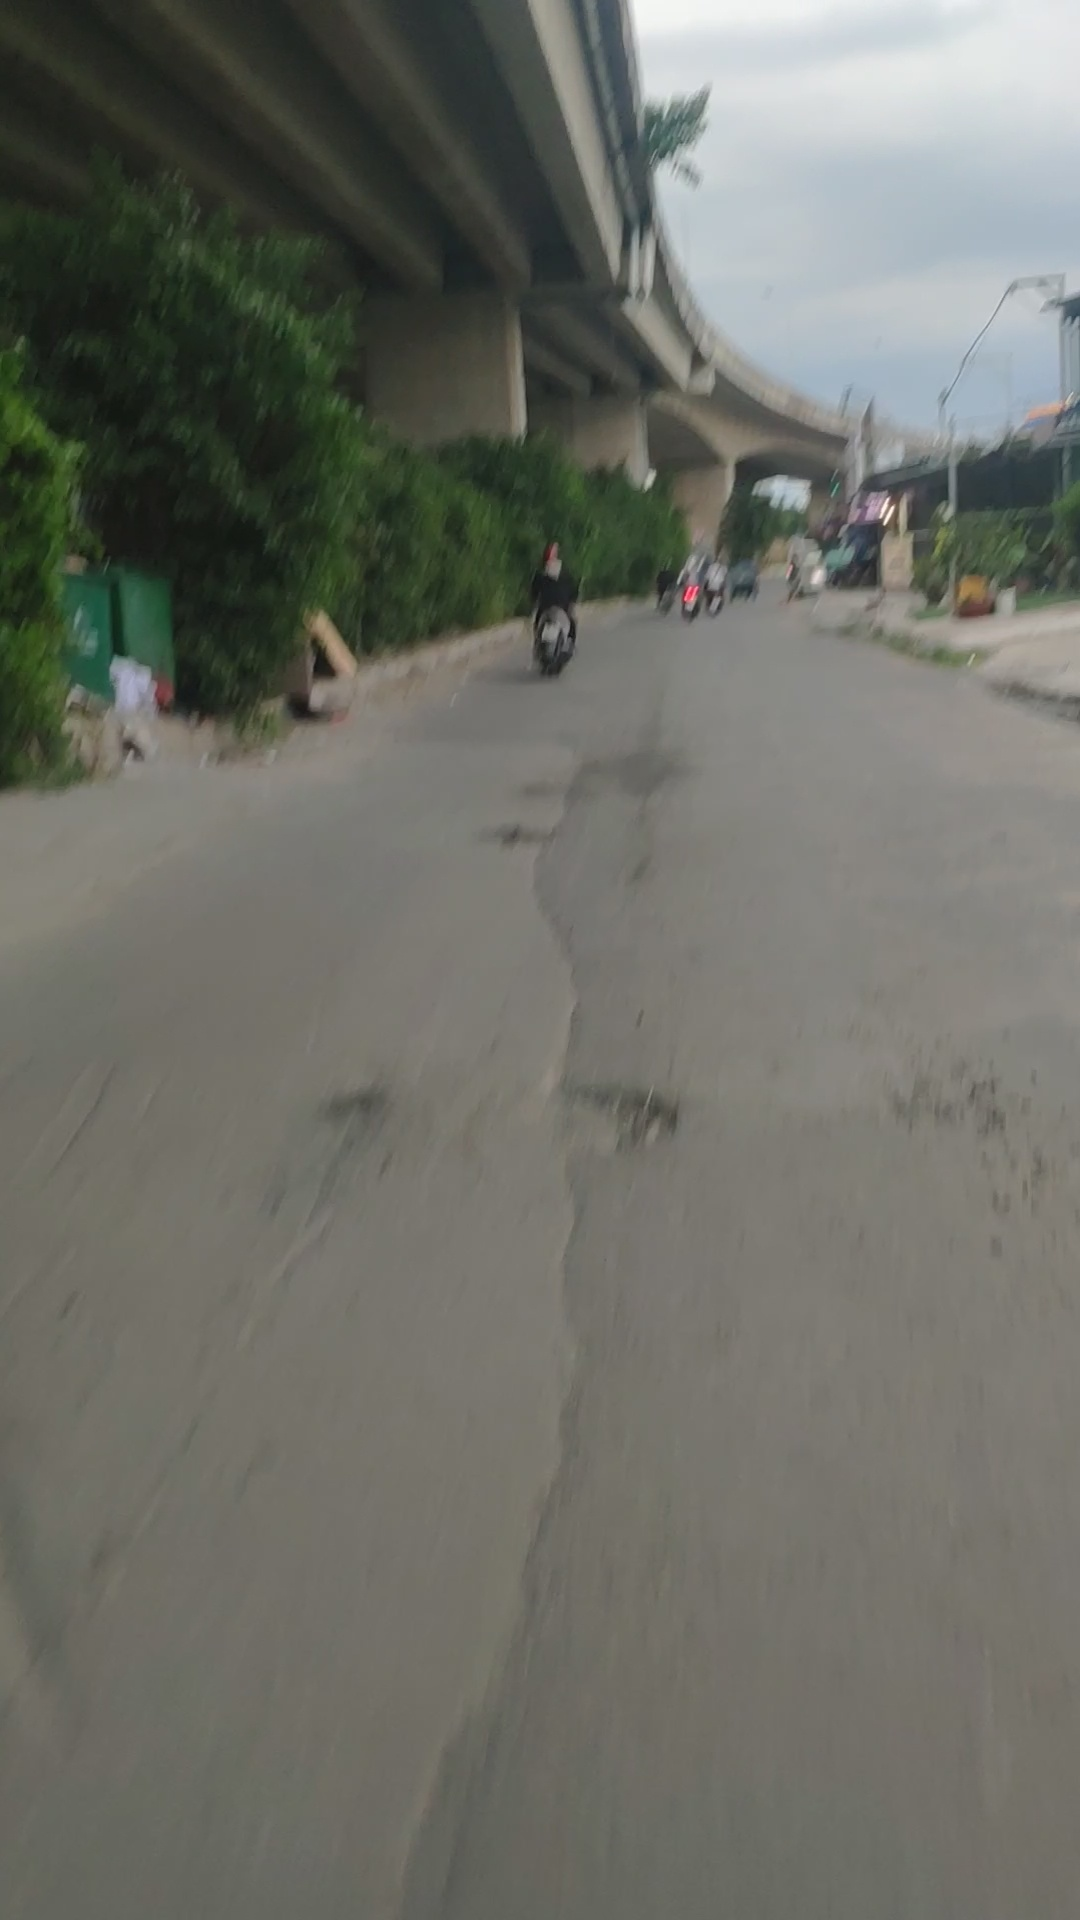hole: (535, 1079, 692, 1160)
